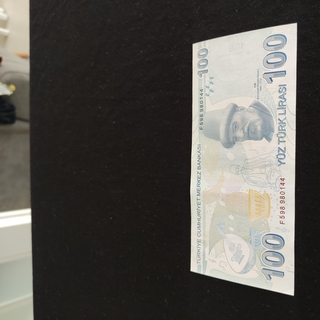100TLBack: (189, 22, 299, 296)
